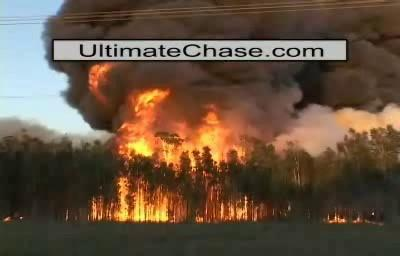fire: (70, 65, 388, 229)
